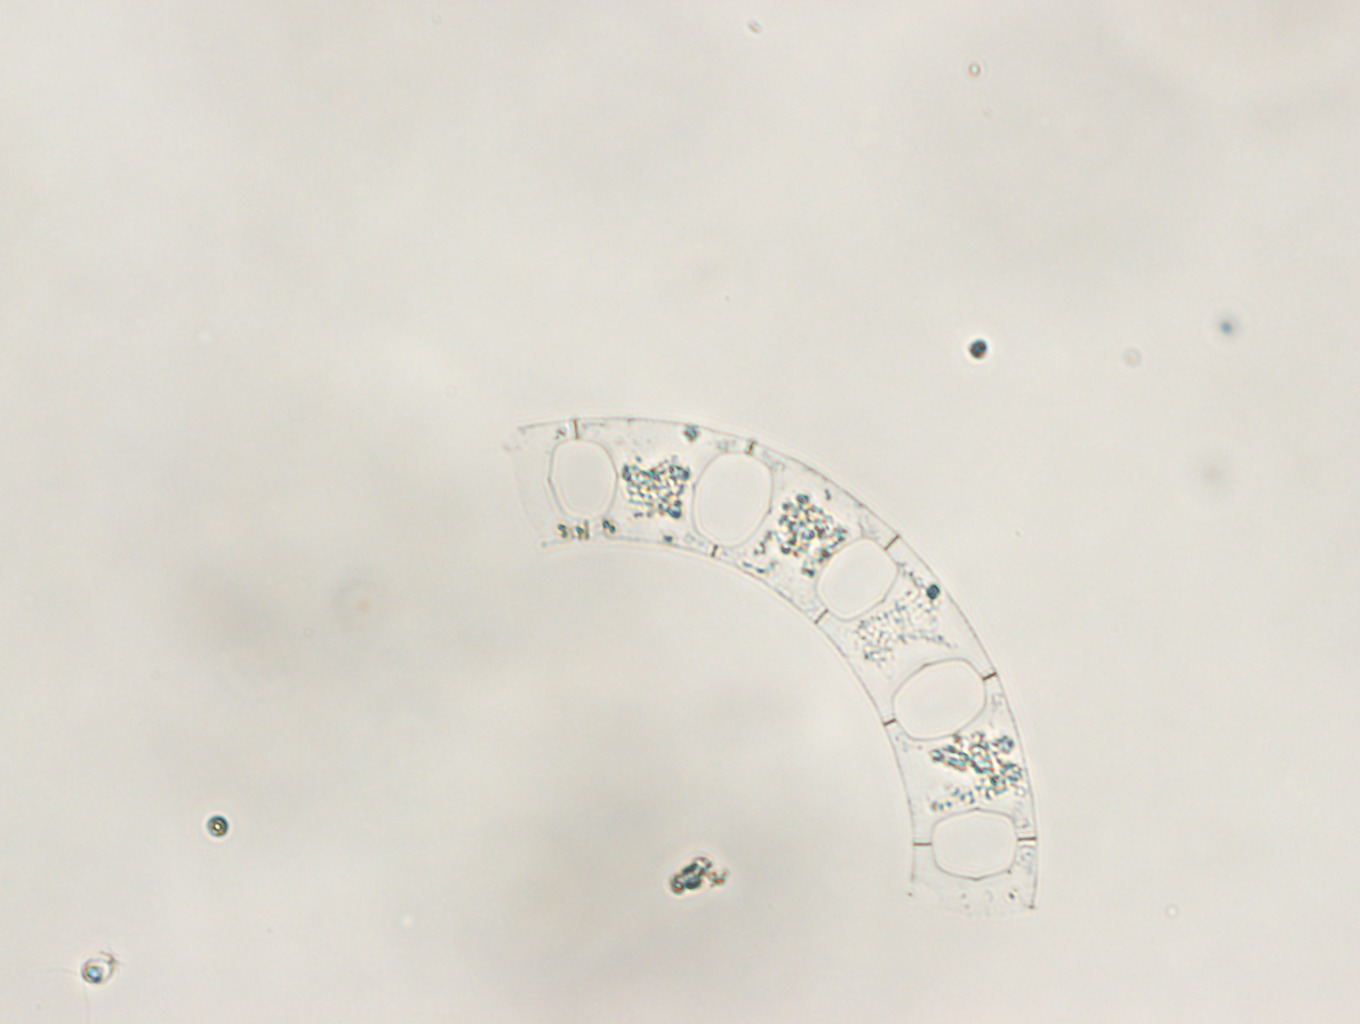eucampia: (515, 418, 1037, 915)
